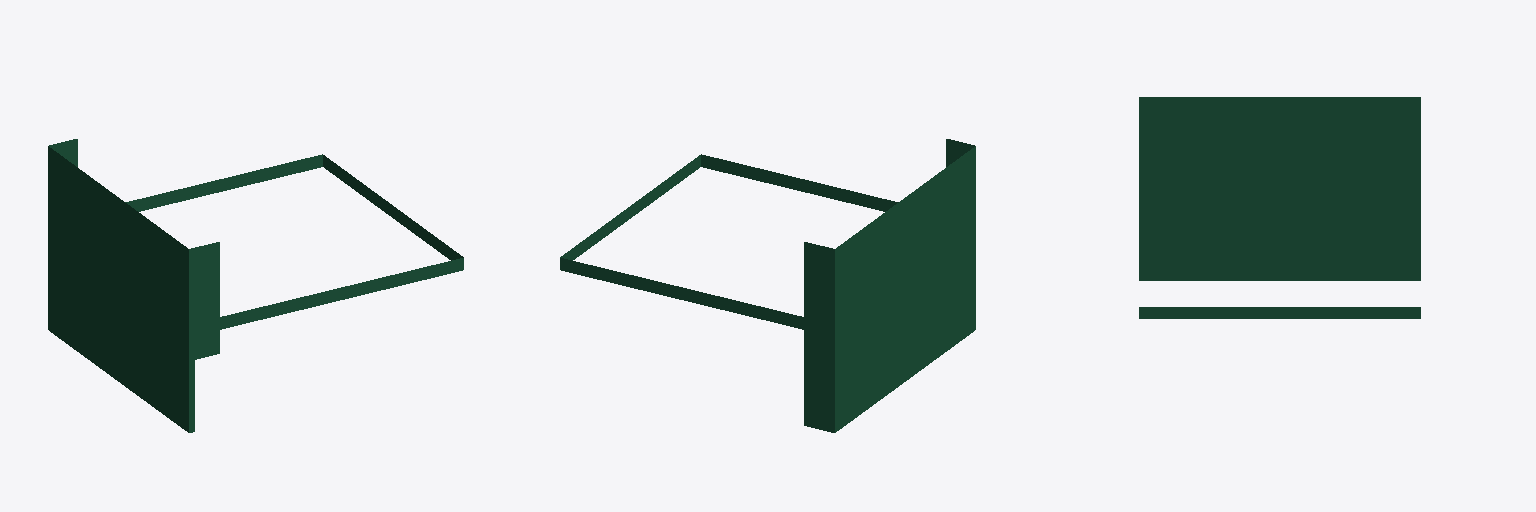
The picture shows the model from 3 angles: view 1: azimuth 30°, elevation 25°; view 2: azimuth 150°, elevation 25°; view 3: azimuth 270°, elevation 25°; orthographic projection.
Parts seen in each view (by area): view 1: SketchUp_ID3; view 2: SketchUp_ID3; view 3: SketchUp_ID3.
Part boxes in pixels (x1,y1,x2,y2): SketchUp_ID3: (48, 139, 463, 432); SketchUp_ID3: (560, 139, 975, 432); SketchUp_ID3: (1139, 97, 1420, 318).
Size of the model in its own units: 9 by 5.76 by 8.